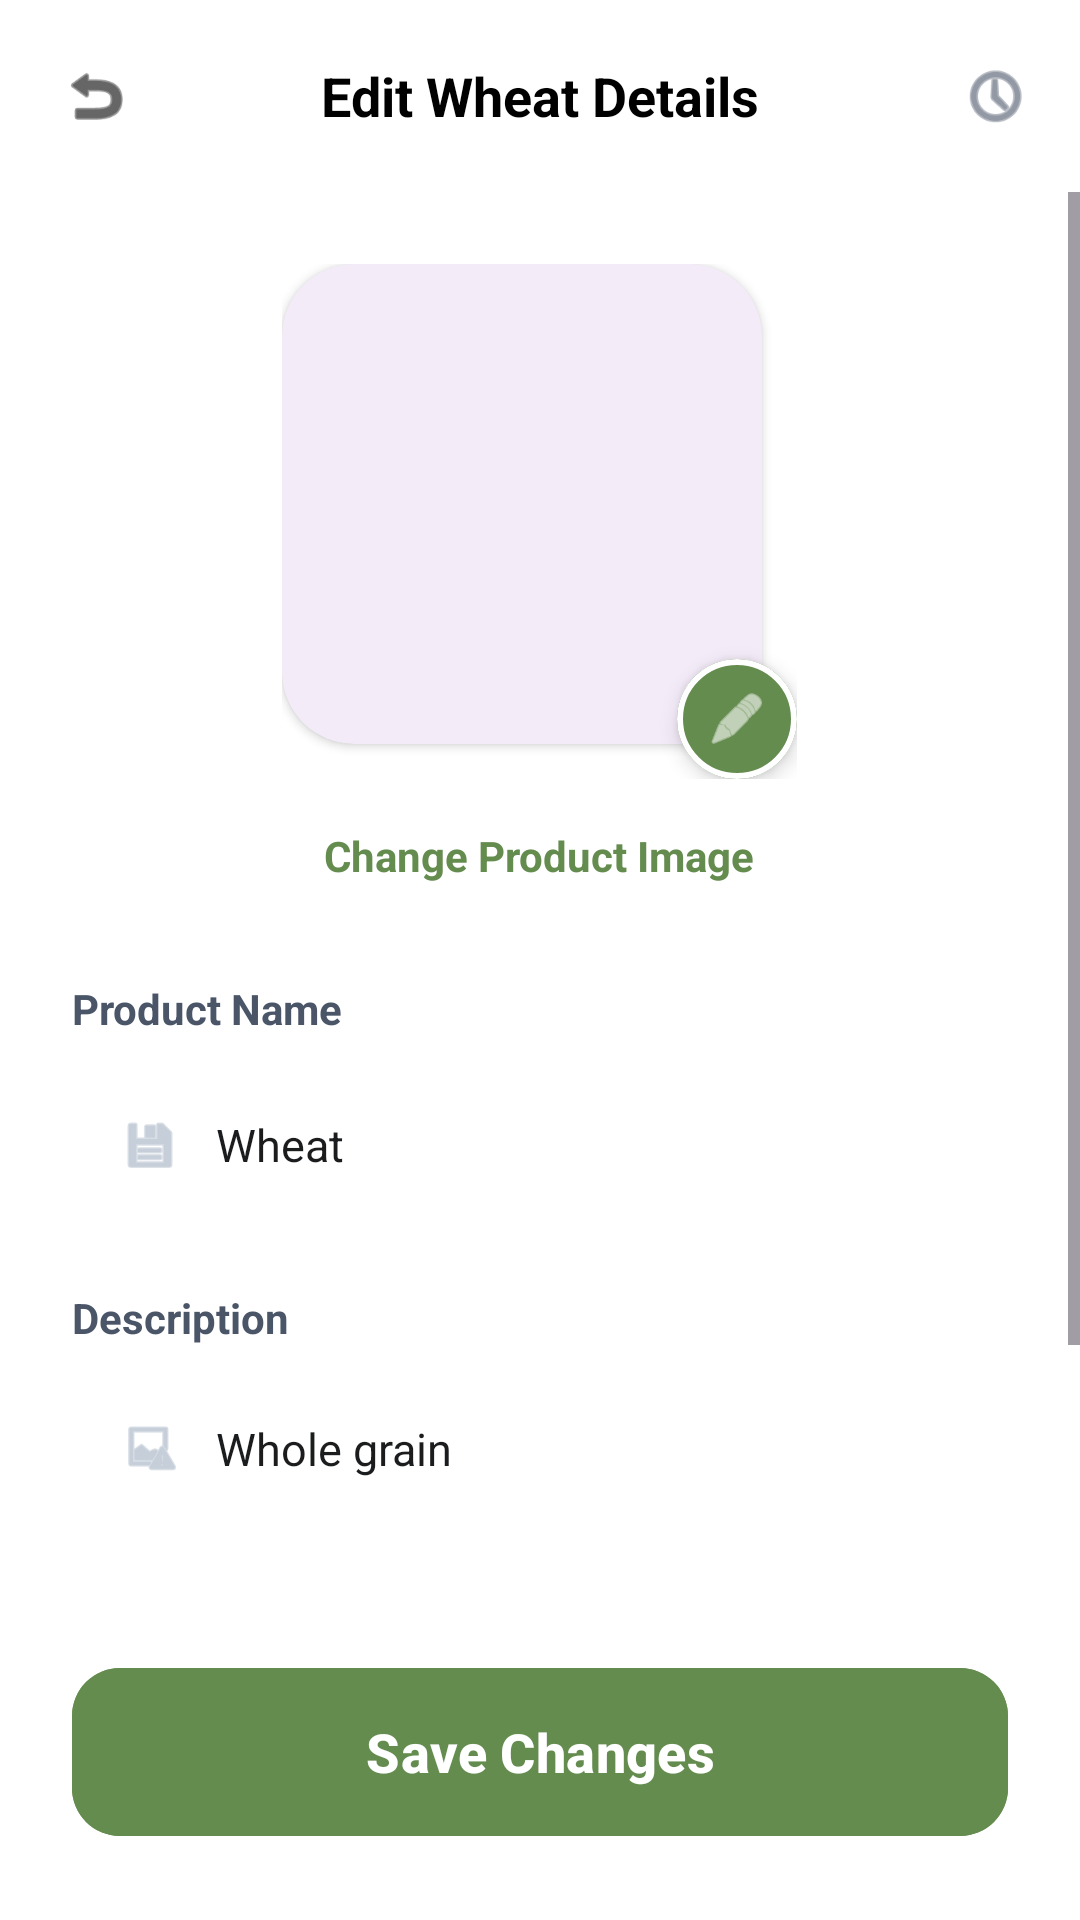

Where icons sit on this 1080px x 1920px app screen, as detection(x1, y1, x2, y2):
edit: detection(683, 665, 797, 779)
recent history: detection(970, 70, 1022, 122)
revert: detection(71, 73, 123, 120)
save: detection(128, 1123, 172, 1168)
